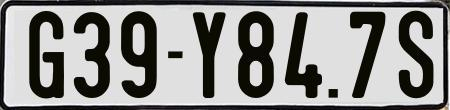3: (73, 10, 110, 101)
4: (285, 10, 328, 96)
7: (350, 11, 391, 102)
8: (235, 9, 272, 100)
9: (121, 10, 161, 103)
G: (27, 10, 64, 102)
S: (399, 9, 436, 101)
Y: (192, 9, 230, 100)
